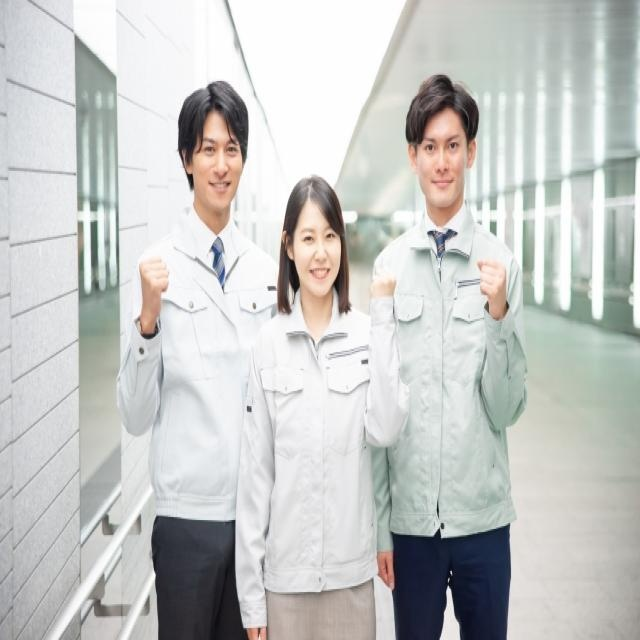Sin_Casco_Mascarrilla: (402, 69, 482, 199), (178, 80, 249, 209), (283, 171, 342, 294)
Sin_Chaleco: (372, 223, 515, 534), (146, 226, 273, 521), (259, 297, 382, 593)
